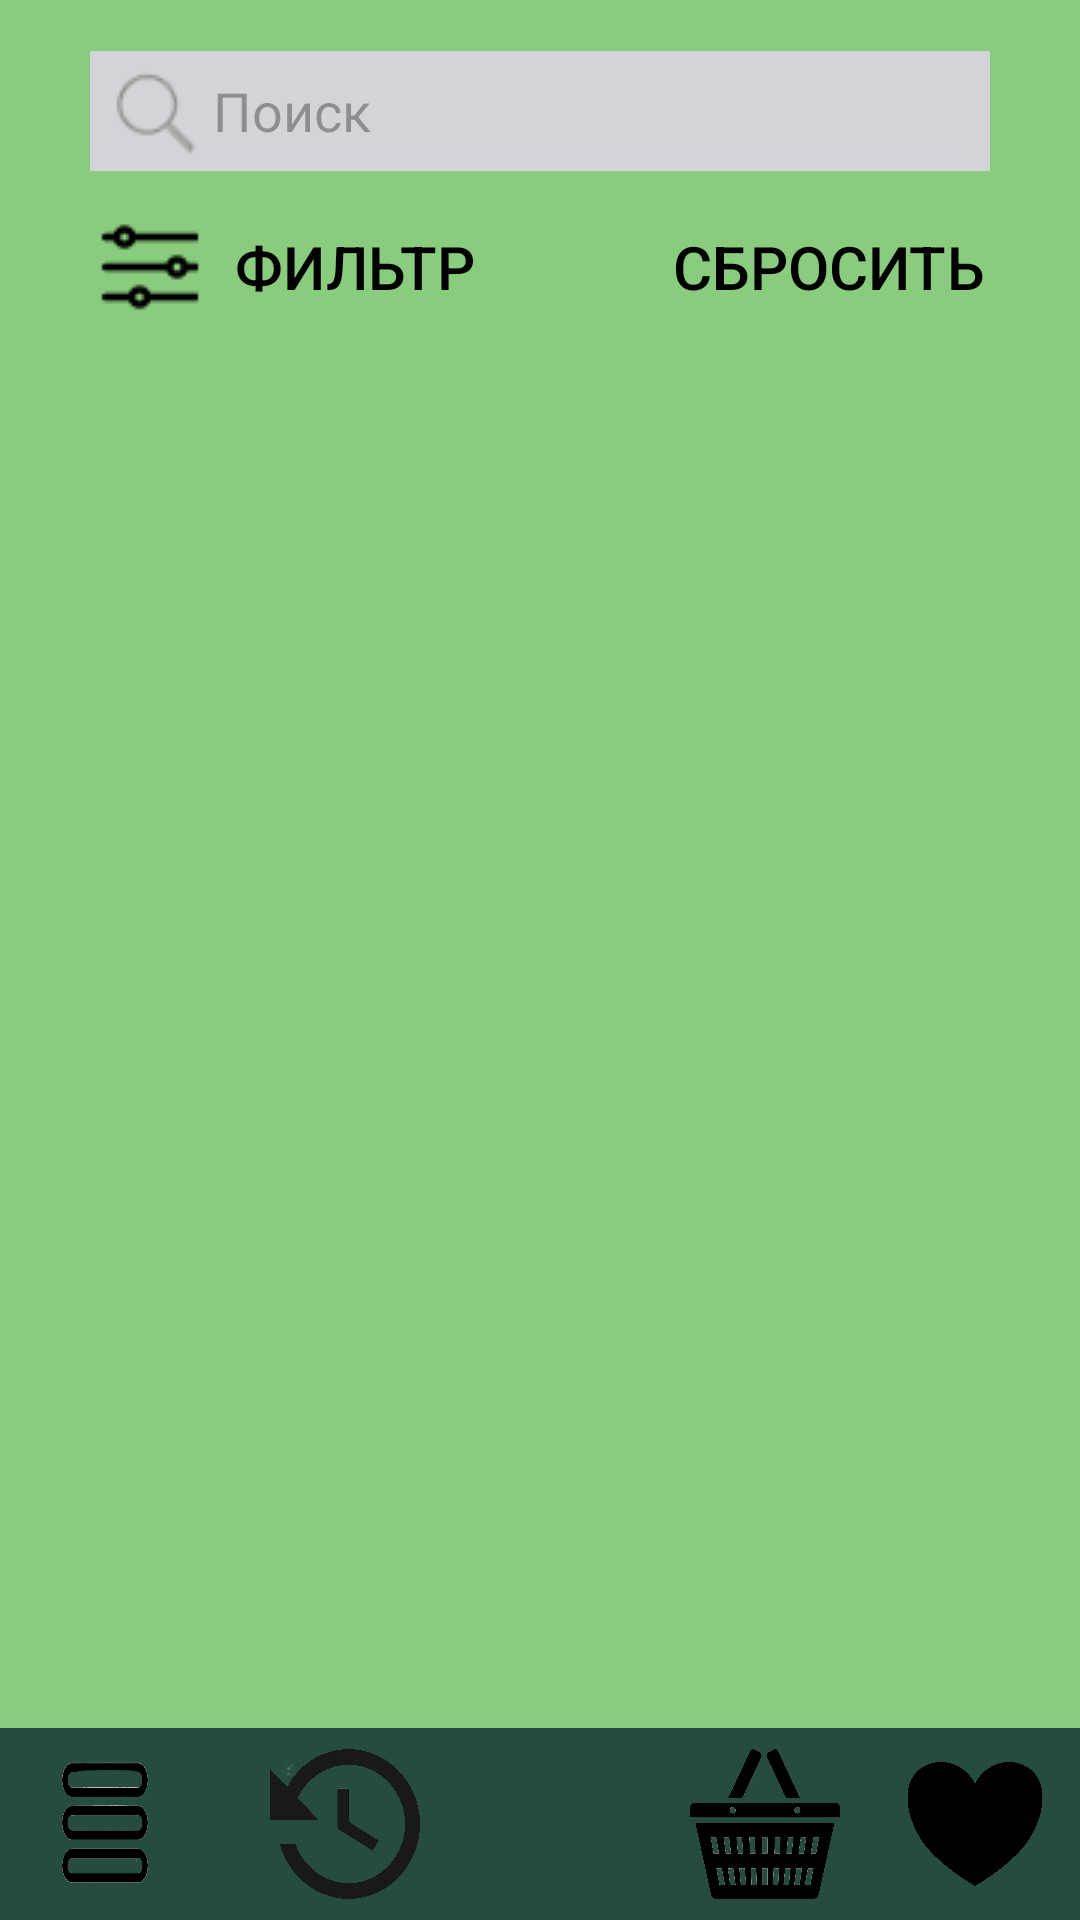

Icon bounding boxes for this 1080x1920 phone screenshot, format (x1, y1, x2, y2):
cart: (690, 1749, 840, 1899)
history: (270, 1749, 420, 1899)
Menu: (62, 1762, 148, 1883)
noselectedheart: (908, 1762, 1042, 1886)
